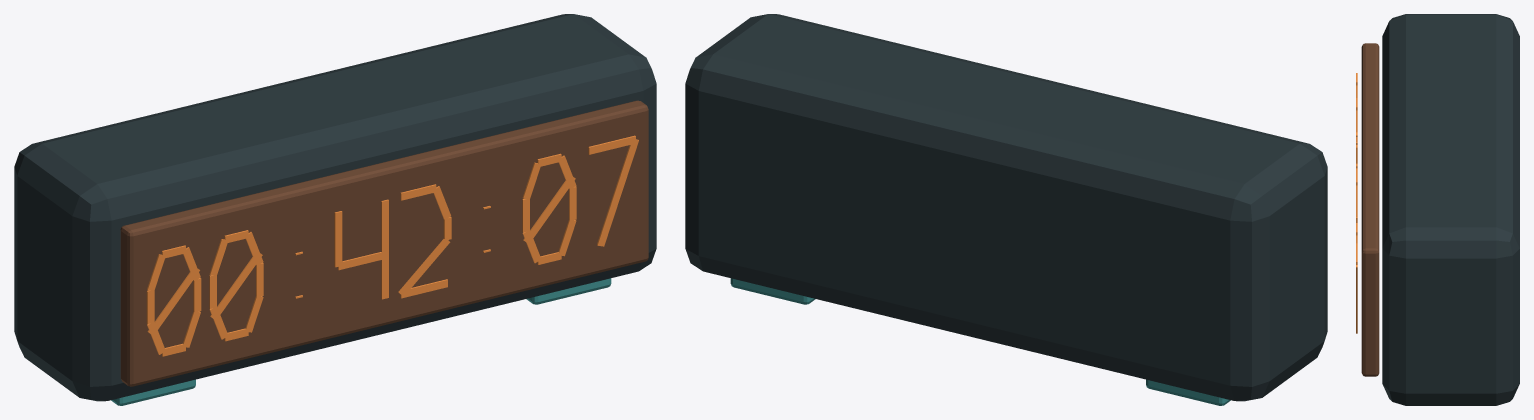
Rendered from P086_timecode_display.glb.
3 views of the same model, side by side, from view 1: azimuth 30°, elevation 25°; view 2: azimuth 150°, elevation 25°; view 3: azimuth 270°, elevation 25° (orthographic). The views are drawn at different scales.
Visible parts, largest first — view 1: P086_display_001, P086_screen_002, P086_digits_003, P086_foot_005, P086_foot_004; view 2: P086_display_001, P086_foot_005, P086_foot_004; view 3: P086_display_001, P086_screen_002, P086_digits_003.
Part boxes in pixels (bbox=[...]): P086_display_001: bbox=[14, 14, 656, 401]; P086_screen_002: bbox=[120, 100, 648, 386]; P086_digits_003: bbox=[146, 135, 638, 356]; P086_foot_005: bbox=[526, 278, 611, 304]; P086_foot_004: bbox=[111, 379, 195, 405]; P086_display_001: bbox=[685, 14, 1327, 401]; P086_foot_005: bbox=[730, 278, 815, 304]; P086_foot_004: bbox=[1146, 379, 1230, 405]; P086_display_001: bbox=[1382, 14, 1519, 405]; P086_screen_002: bbox=[1361, 43, 1379, 376]; P086_digits_003: bbox=[1356, 73, 1357, 333].
Bounding box in the file's own units: 0.28 × 0.1045 × 0.0834.
